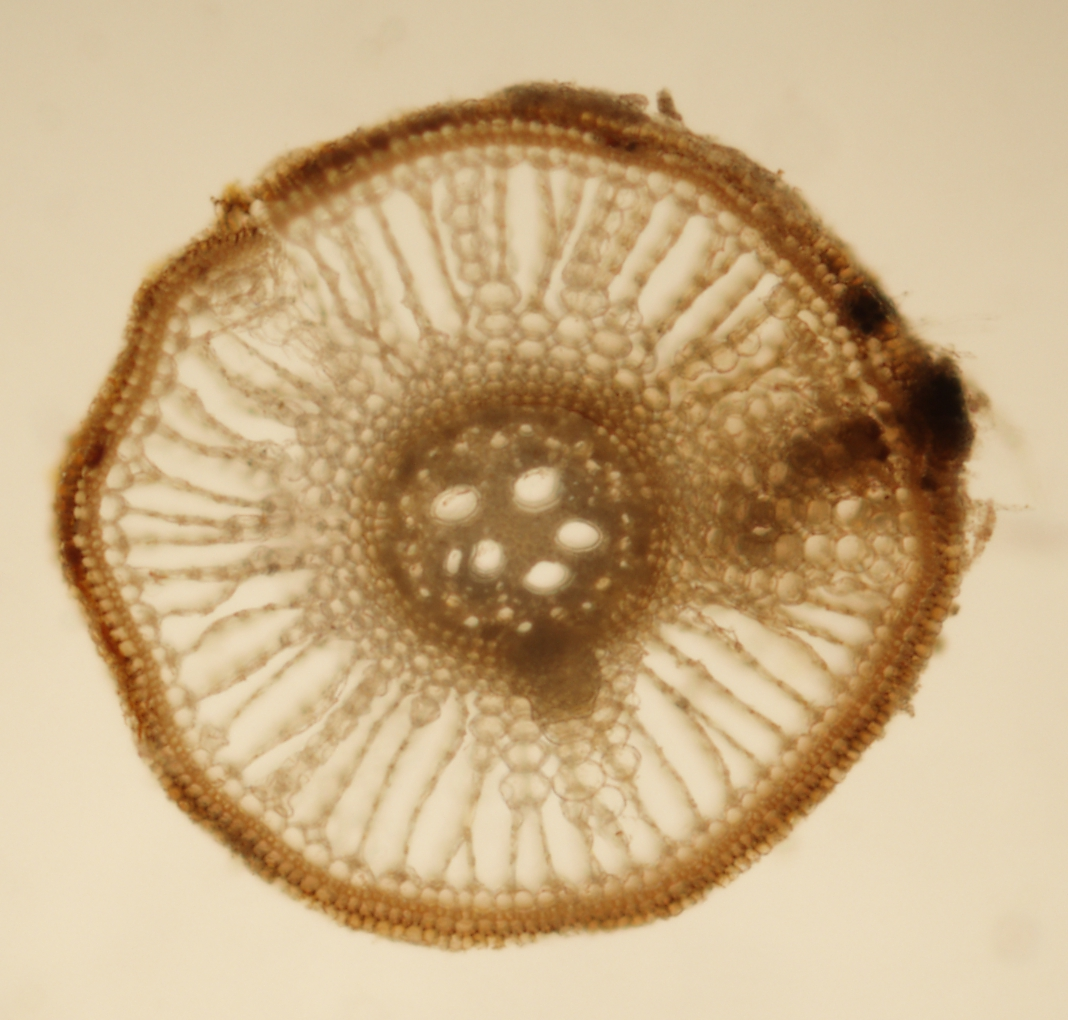lm: (512, 466, 568, 511), (445, 538, 505, 579), (429, 484, 482, 525), (522, 561, 576, 592), (554, 518, 603, 551)
